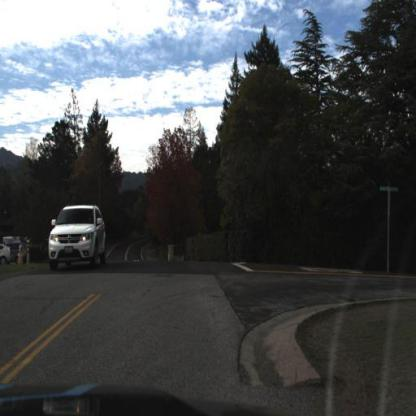car: (48, 206, 108, 274)
